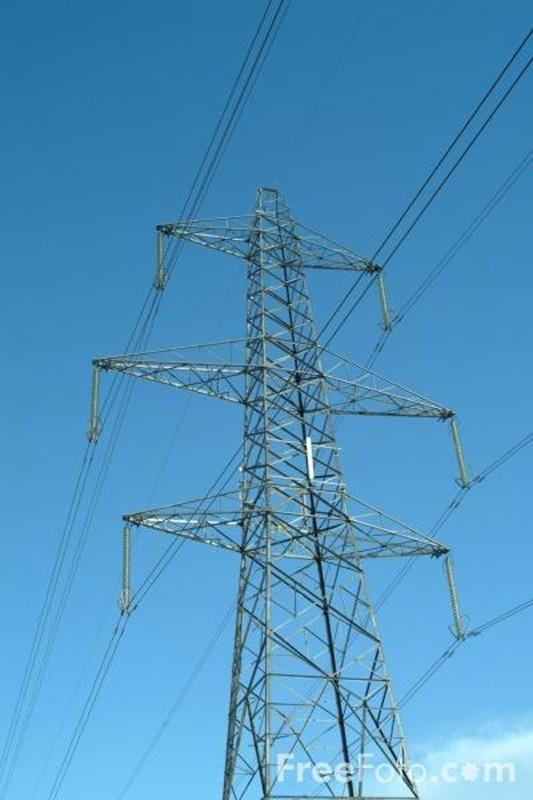power_tower: (84, 184, 473, 800)
